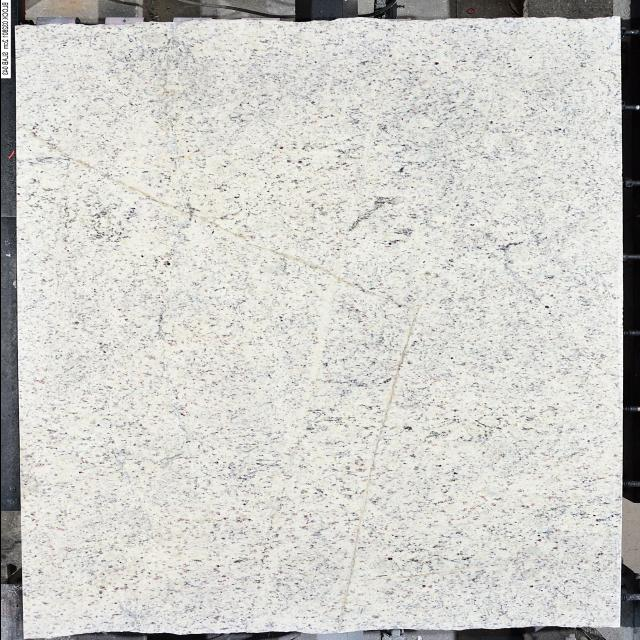chapa: (15, 18, 622, 635)
